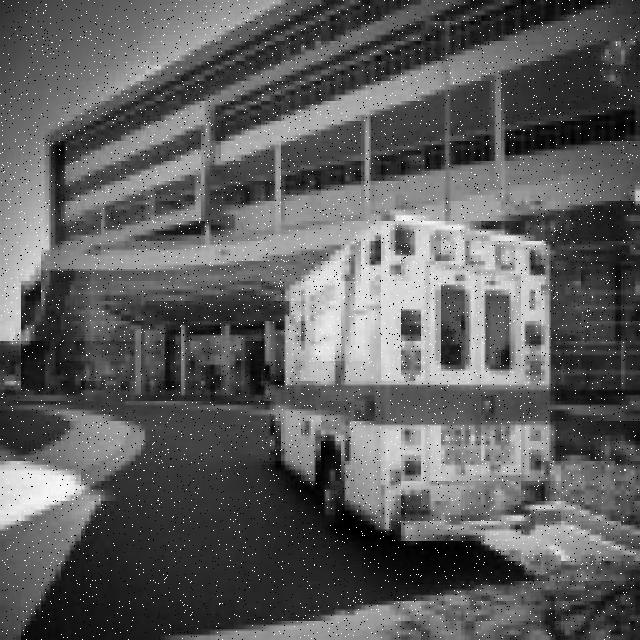Ambulance: (263, 214, 561, 543)
